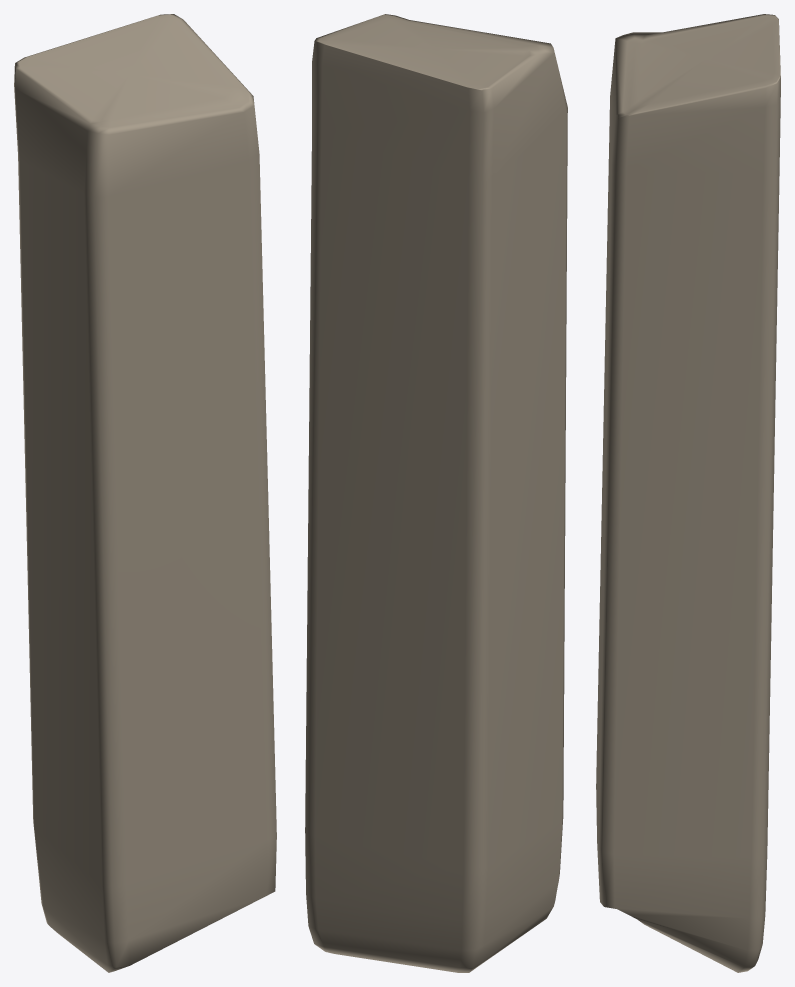
File: boundary.dry_stone.stoop_b.glb
3 views of the same model, side by side, from view 1: azimuth 30°, elevation 25°; view 2: azimuth 150°, elevation 25°; view 3: azimuth 270°, elevation 25° (orthographic). The views are drawn at different scales.
Parts seen in each view (by area): view 1: main__stone_a98; view 2: main__stone_a98; view 3: main__stone_a98.
Part boxes in pixels (x1=…): main__stone_a98: x1=14, y1=14, x2=276, y2=972; main__stone_a98: x1=305, y1=14, x2=567, y2=972; main__stone_a98: x1=596, y1=14, x2=780, y2=972.
Bounding box in the file's own units: 0.4052 × 1.85 × 0.3497.
